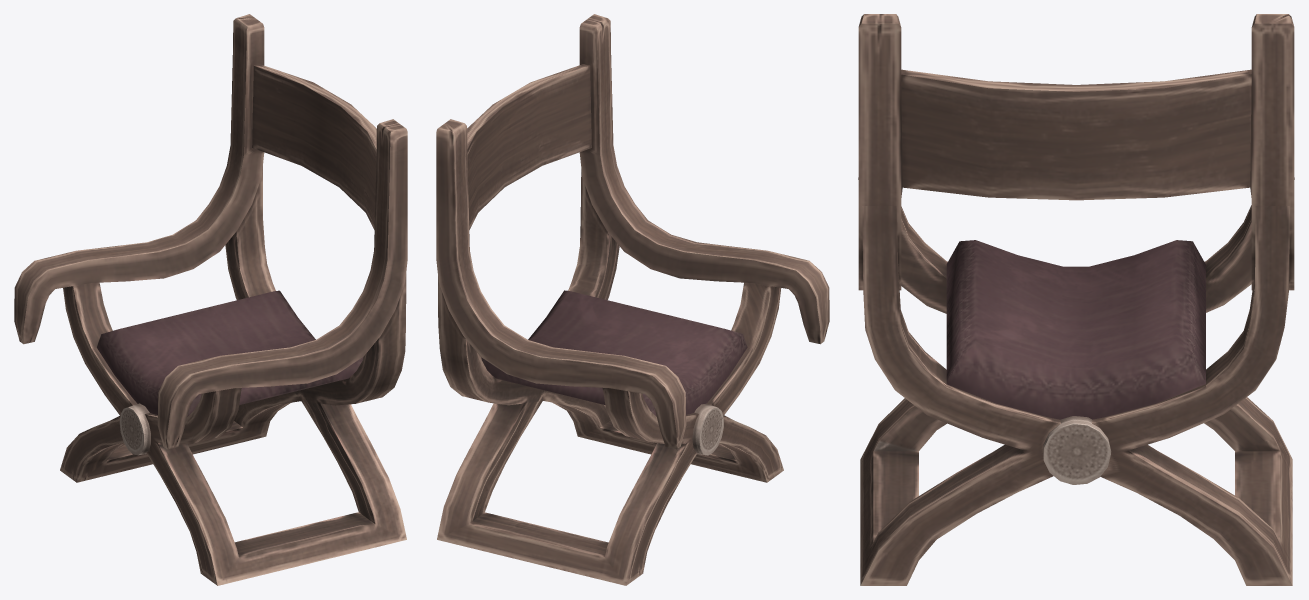
File: SM_Ench_Chair.fbx
The picture shows the model from 3 angles, left to right: view 1: azimuth 30°, elevation 25°; view 2: azimuth 150°, elevation 25°; view 3: azimuth 270°, elevation 25°; orthographic projection. The views are drawn at different scales.
Visible parts, largest first — view 1: SM_Ench_Chair_LOD0; view 2: SM_Ench_Chair_LOD0; view 3: SM_Ench_Chair_LOD0.
Boxes of the visible parts, <box> form: SM_Ench_Chair_LOD0: <box>14,14,407,585</box>; SM_Ench_Chair_LOD0: <box>436,14,829,585</box>; SM_Ench_Chair_LOD0: <box>858,14,1294,585</box>.
Size of the model in its own units: 66.21 by 70.14 by 99.76.
Materials: 1 (1 with a texture image).
